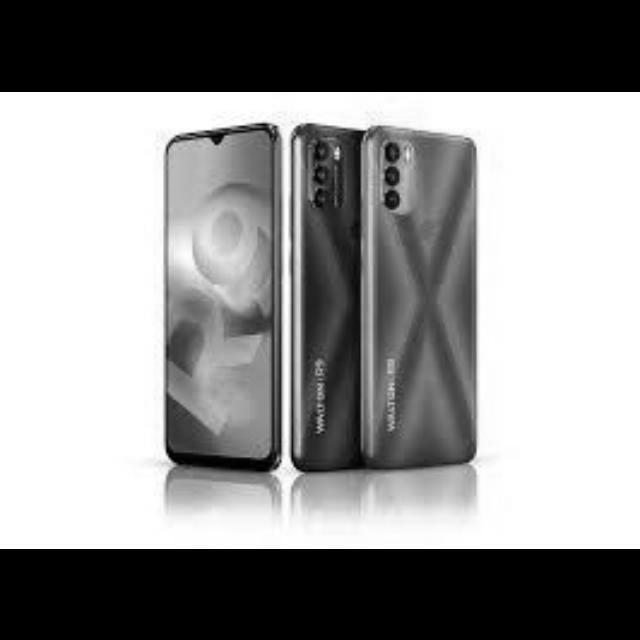fake: (158, 114, 304, 476)
